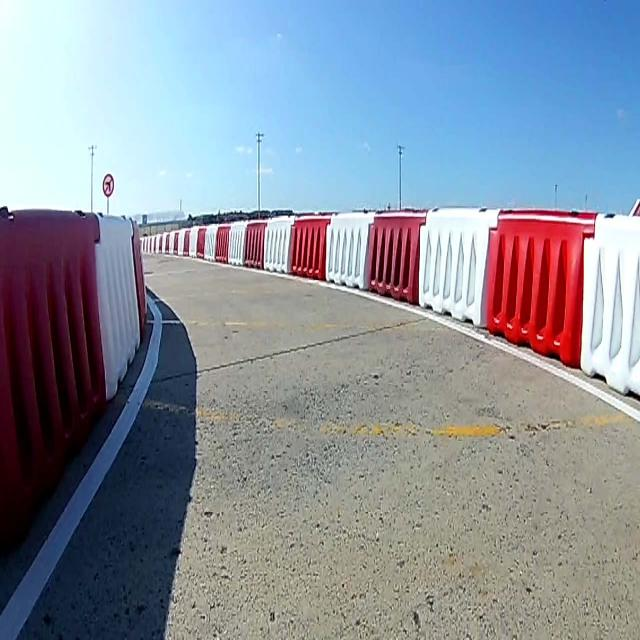soladonulmez: (102, 172, 115, 200)
